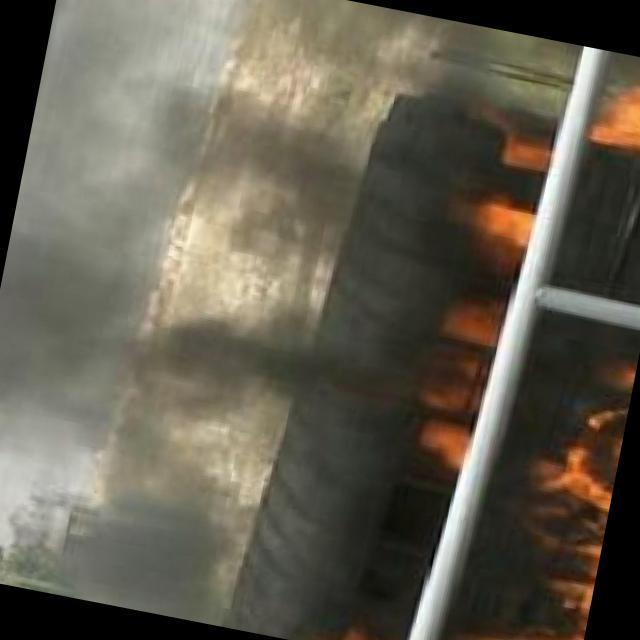Fire: (481, 324, 640, 640), (425, 136, 538, 464), (606, 55, 640, 188)
